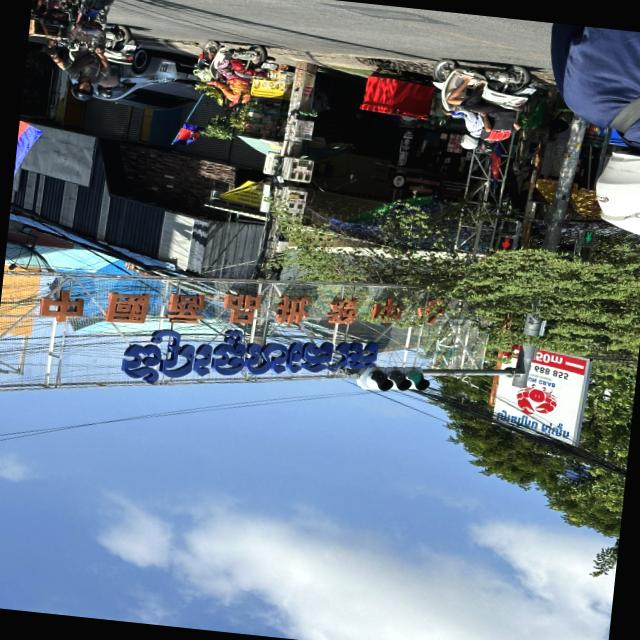1: (490, 404, 575, 445)
Yolov11kh: (106, 326, 390, 385)
